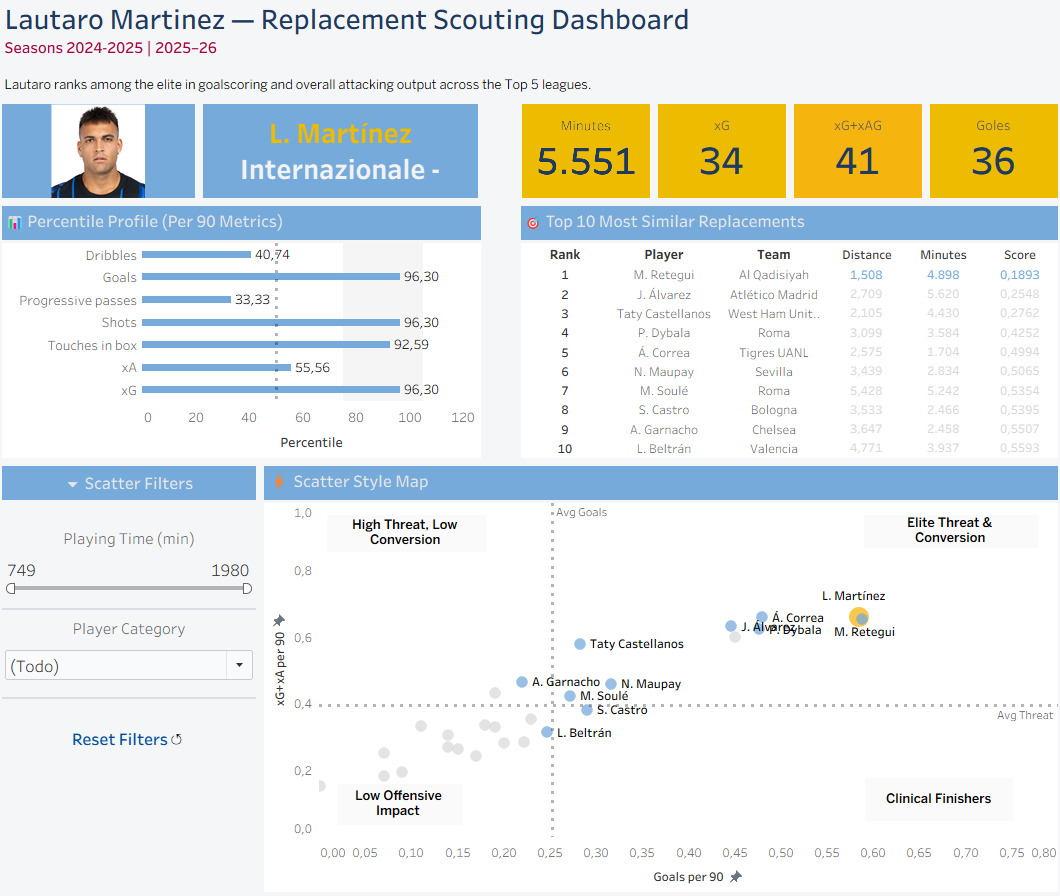

The dashboard page shown, as its layout file describes it:
{"tool":"tableau","page":{"name":"LamineY_Scouting_Replacement_Dashboard","canvas":[1080,916],"ordinal":0},"visuals":[{"type":"text","box":[8,8,1064,66]},{"type":"text","box":[8,80.2,1064,32]},{"type":"worksheet","title":"KPI Minutes","mark":"Automatic","box":[528,112,136,102]},{"type":"worksheet","title":"KPI xG","mark":"Automatic","box":[664,112,136,102]},{"type":"worksheet","title":"KPI xG+xAG","mark":"Automatic","box":[800,112,136,102]},{"type":"worksheet","title":"KPI Goals","mark":"Automatic","box":[936,112,136,102]},{"type":"image","param":"//vboxsvr/Documentos/Proyectos/Personales/proyectos-Python/Analisis Lautaro_Mart","box":[8,112.2,201,101.8]},{"type":"worksheet","title":"Target Profile","mark":"Automatic","box":[209,112.2,283,101.8]},{"type":"blank","box":[492,112.2,36,101.8]},{"type":"worksheet","title":"Percentile Profile","mark":"Bar","rows":["Calculation_0370310387150858"],"cols":["Percentile"],"box":[8,214,487,260.1]},{"type":"blank","box":[495,214,32,260.1]},{"type":"worksheet","title":"Top Replacements","mark":"Automatic","rows":["Rank","Player","Team"],"box":[527,214,545,260.1]},{"type":"text","box":[8,474.1,262,42]},{"type":"worksheet","title":"Scatter Style Map","mark":"Circle","rows":["xG+xA per 90"],"cols":["Goals per 90"],"box":[270,474.1,802,433.9]},{"type":"blank","box":[8,516.1,262,20]},{"type":"text","box":[8,536.1,262,29]},{"type":"filter","title":"Scatter Style Map","param":"[federated.036sx7e1903gzl1fxrk0a0vrcxw7].[none:Playing Time_Min:qk]","box":[8,565.1,262,51]},{"type":"blank","box":[8,616.1,262,10]},{"type":"text","box":[8,626.1,262,29]},{"type":"filter","title":"Scatter Style Map","param":"[federated.036sx7e1903gzl1fxrk0a0vrcxw7].[none:Calculation_0668813611261953:nk]","box":[8,655.1,262,50]},{"type":"blank","box":[8,705.1,262,10]},{"type":"worksheet","title":"Reset Button","mark":"Automatic","box":[8,715.1,262,103]}]}

Visuals, with their boxes in screenshot pixels (x1, y1, x2, y2), scaled from the page's 1080x916 canvas onto the 1060x896 screenshot:
text: locate(8, 8, 1052, 72)
text: locate(8, 78, 1052, 110)
"KPI Minutes" worksheet: locate(518, 110, 652, 209)
"KPI xG" worksheet: locate(652, 110, 785, 209)
"KPI xG+xAG" worksheet: locate(785, 110, 919, 209)
"KPI Goals" worksheet: locate(919, 110, 1052, 209)
image: locate(8, 110, 205, 209)
"Target Profile" worksheet: locate(205, 110, 483, 209)
blank: locate(483, 110, 518, 209)
"Percentile Profile" worksheet (Bar marks): locate(8, 209, 486, 464)
blank: locate(486, 209, 517, 464)
"Top Replacements" worksheet: locate(517, 209, 1052, 464)
text: locate(8, 464, 265, 505)
"Scatter Style Map" worksheet (Circle marks): locate(265, 464, 1052, 888)
blank: locate(8, 505, 265, 524)
text: locate(8, 524, 265, 553)
"Scatter Style Map" filter: locate(8, 553, 265, 603)
blank: locate(8, 603, 265, 612)
text: locate(8, 612, 265, 641)
"Scatter Style Map" filter: locate(8, 641, 265, 690)
blank: locate(8, 690, 265, 699)
"Reset Button" worksheet: locate(8, 699, 265, 800)
